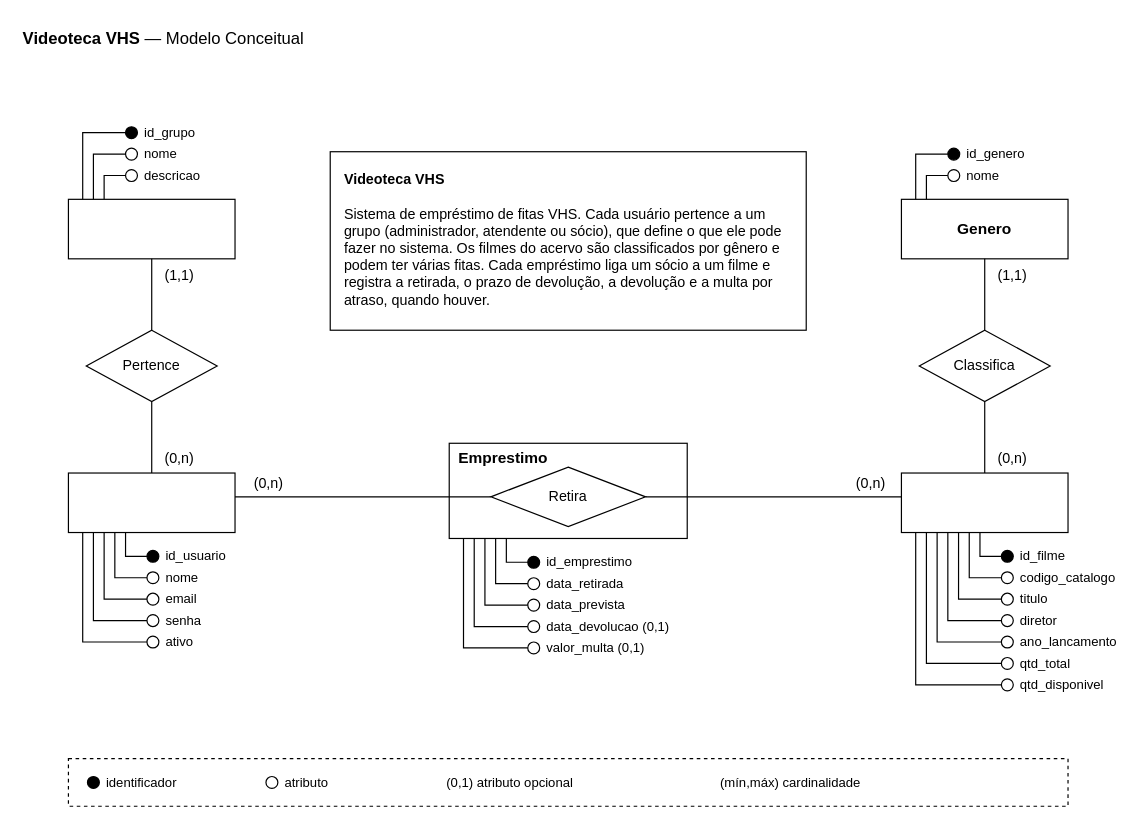
This 1136x827 diagram has some shape labels left out. Each missing label, with the centre of its shape:
Filme: [984,502]
Grupo_Usuario: [151,228]
Usuario: [151,502]
